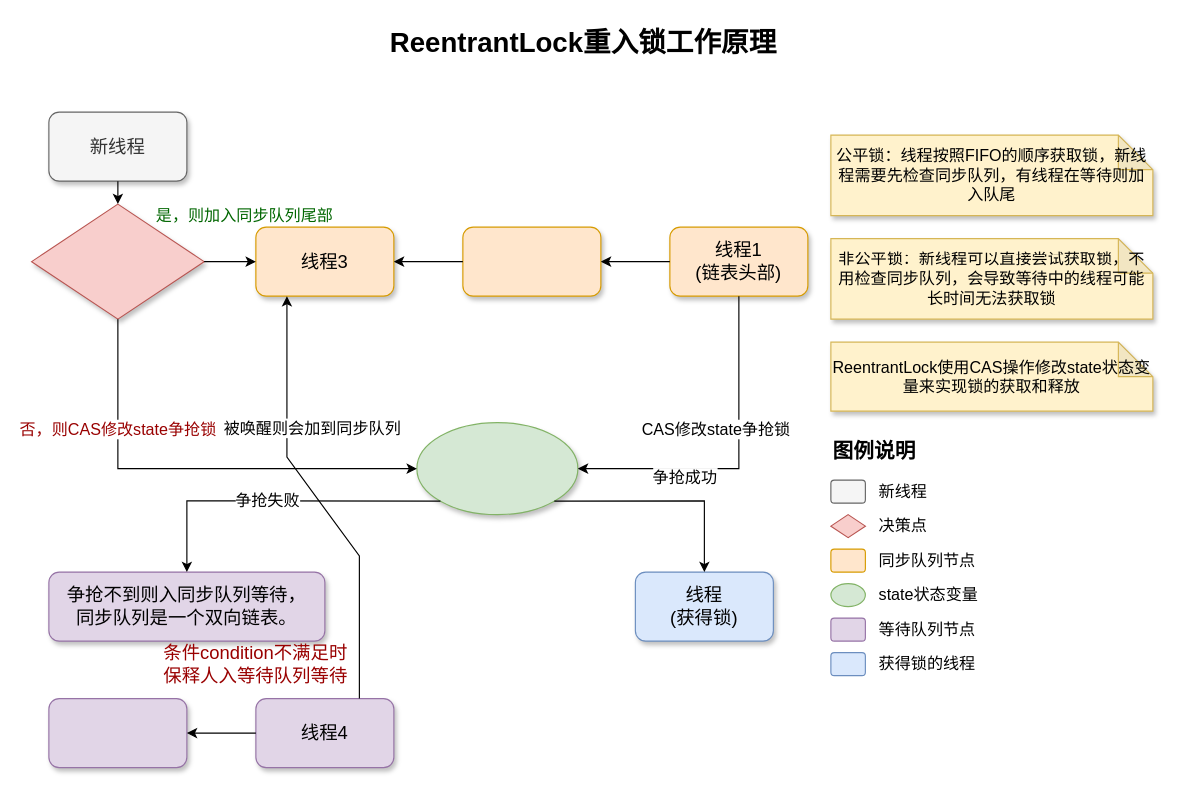
Some shapes in this 1180 by 796 pixel diagram are drawn without their labels. Each missing label, with the centre of its shape:
state (锁状态变量): pixel 498 470
是否公平锁: pixel 118 262
线程2: pixel 532 262
线程5: pixel 118 734
